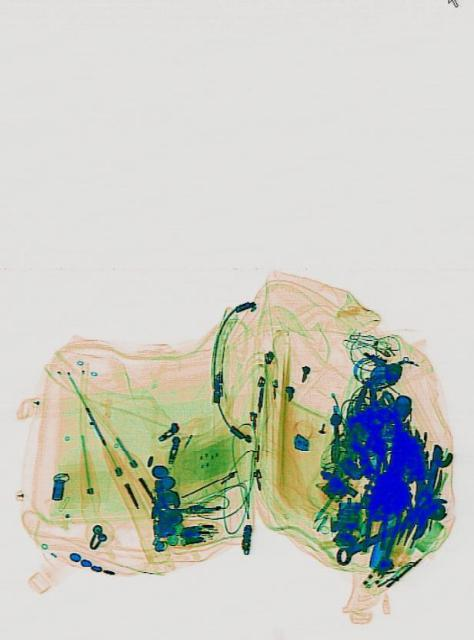Wrench: (330, 492, 449, 568)
